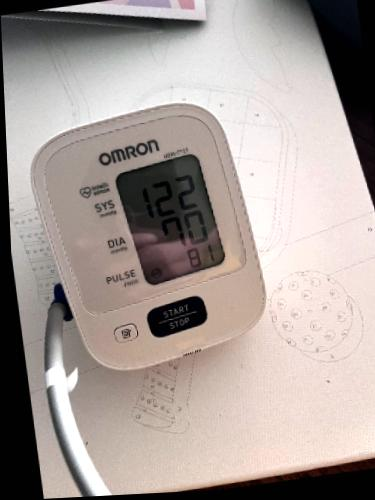bpm: (112, 149, 231, 289)
